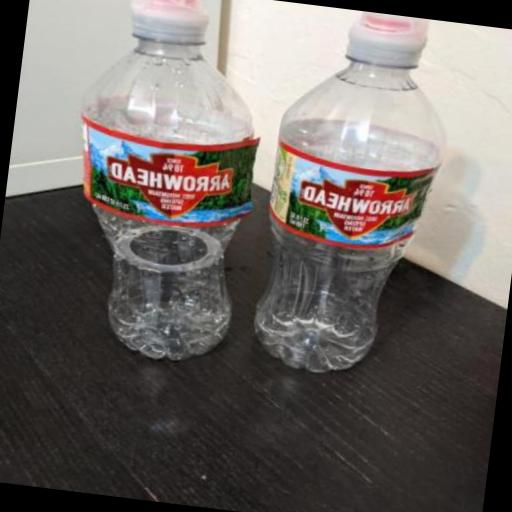Coca: (43, 0, 287, 381), (231, 0, 464, 396)
